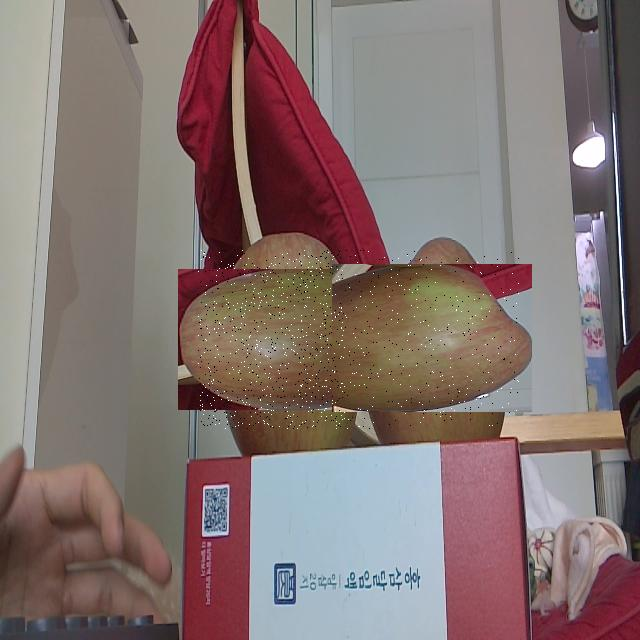apple: (198, 250, 376, 429), (345, 251, 519, 426)
